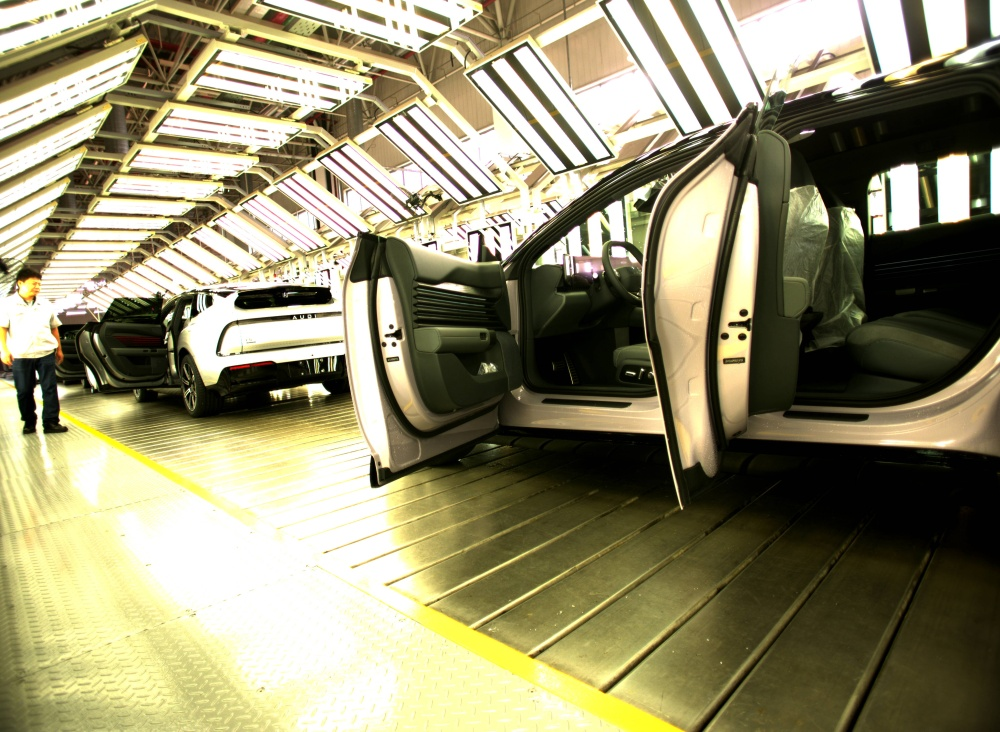armrest_color: (412, 325, 493, 354)
panel_color: (410, 277, 493, 330)
